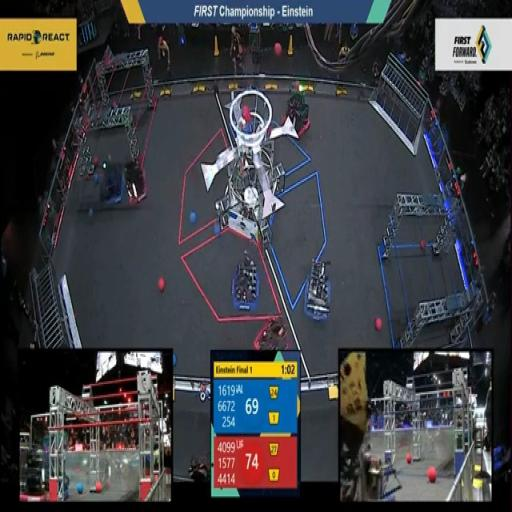robot: (299, 252, 336, 327), (228, 248, 262, 316), (92, 156, 126, 212), (251, 313, 291, 357), (281, 86, 312, 140), (121, 154, 149, 208)
